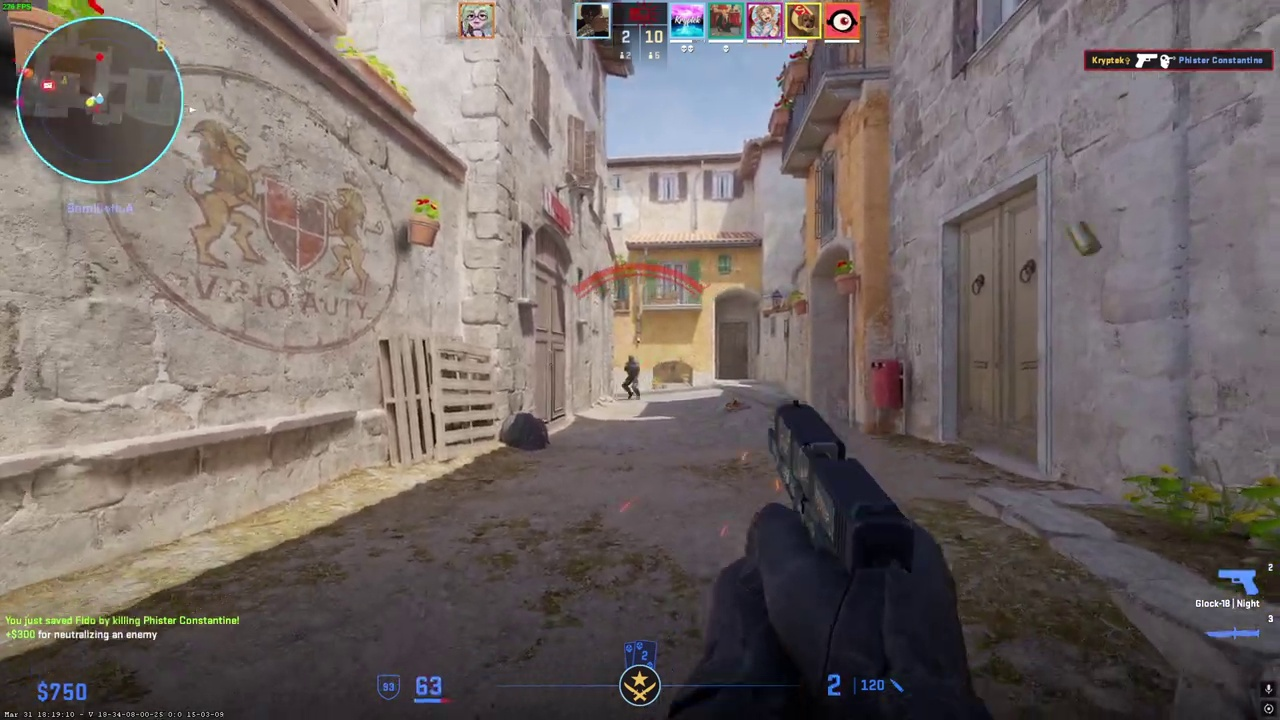CT: (622, 356, 640, 400)
